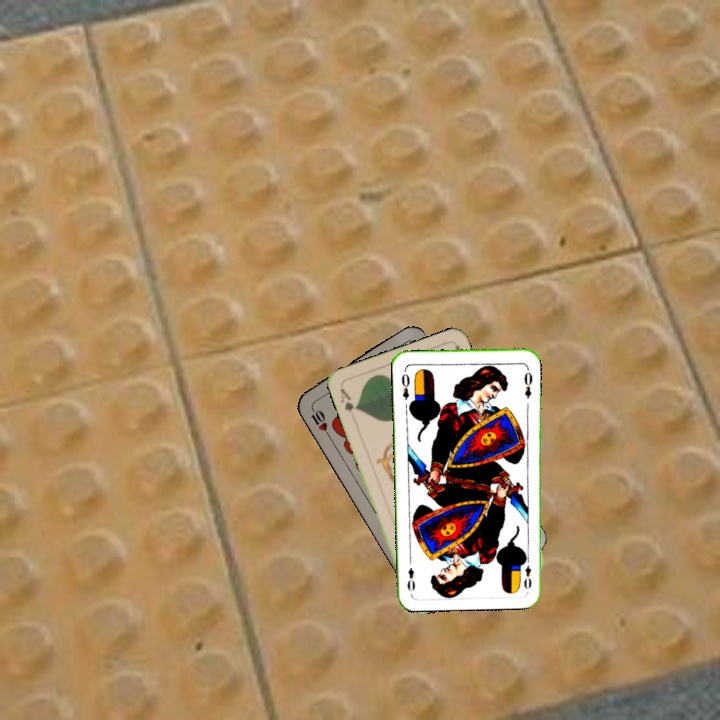EO: (397, 370, 412, 402), (521, 562, 534, 592)
GA: (336, 384, 360, 415)
H10: (307, 402, 332, 439)
